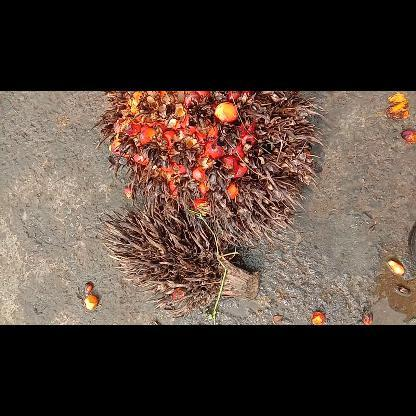Janjang kosong: (99, 194, 260, 314)
Terlalu masak: (90, 91, 322, 247)
